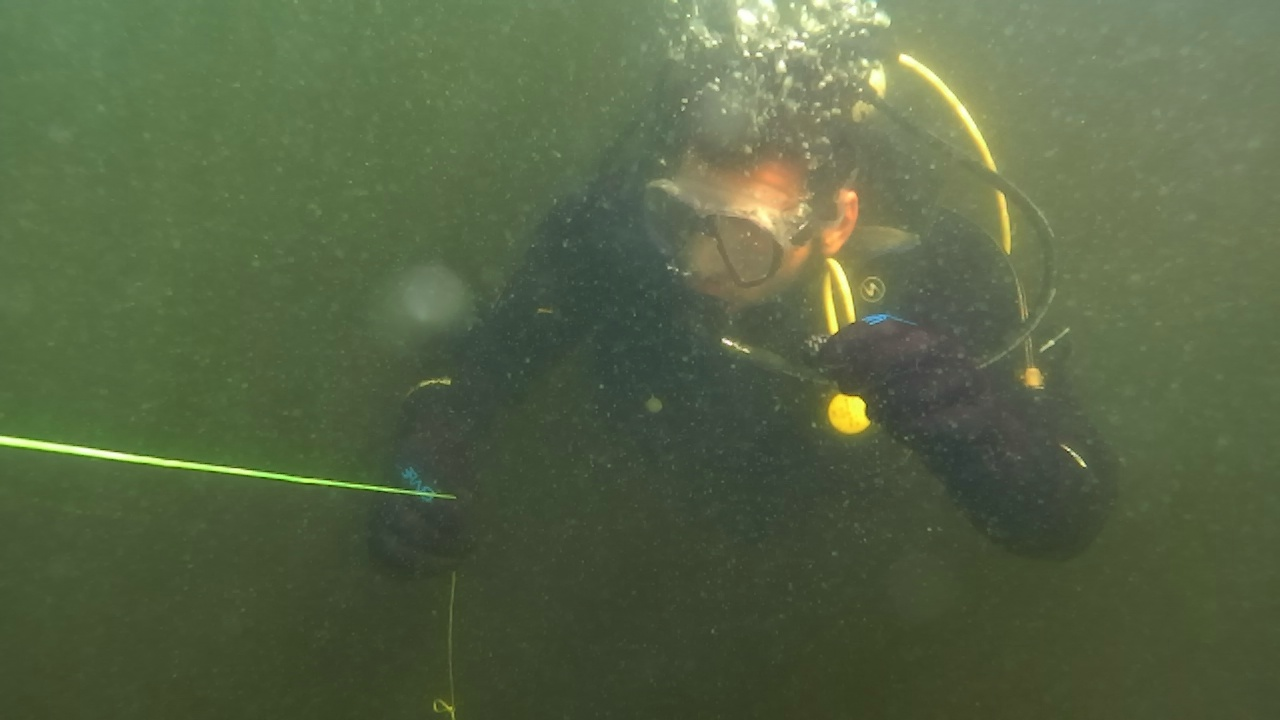Diver: (326, 0, 1144, 624)
Hand: (800, 310, 1016, 460), (352, 394, 490, 594)
Head: (626, 32, 870, 336)
